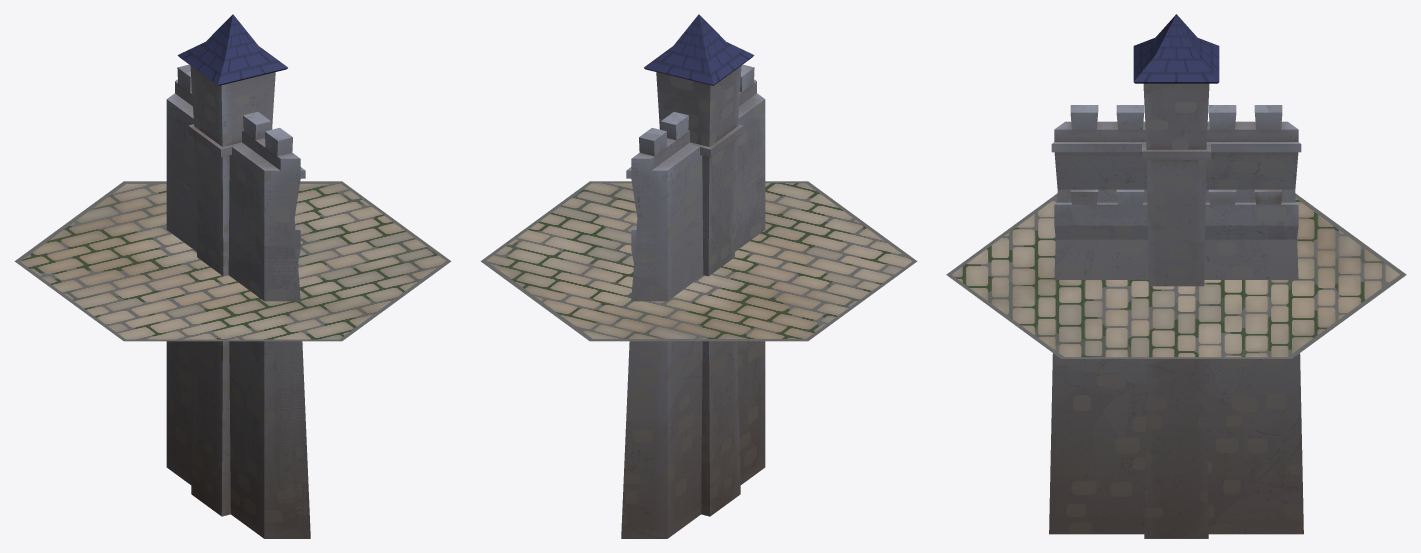
The model's file is Castle_human.gltf.
The picture shows the model from 3 angles, left to right: view 1: azimuth 30°, elevation 25°; view 2: azimuth 150°, elevation 25°; view 3: azimuth 270°, elevation 25°; orthographic projection. The views are drawn at different scales.
Visible parts, largest first — view 1: Keep_human_floor_01, Keep_human_wall_01, Keep_human_tower_01, Castle_human_wall_01; view 2: Keep_human_floor_01, Keep_human_wall_01, Keep_human_tower_01, Castle_human_wall_01; view 3: Keep_human_wall_01, Keep_human_floor_01, Keep_human_tower_01, Castle_human_wall_01.
Boxes of the visible parts, x1,y1,x2,y2 form: Keep_human_floor_01: (14, 181, 451, 341); Keep_human_wall_01: (166, 64, 310, 538); Keep_human_tower_01: (177, 14, 287, 516); Castle_human_wall_01: (166, 171, 310, 538); Keep_human_floor_01: (480, 181, 917, 341); Keep_human_wall_01: (621, 64, 765, 538); Keep_human_tower_01: (644, 14, 754, 516); Castle_human_wall_01: (631, 171, 765, 301); Keep_human_wall_01: (1049, 105, 1303, 534); Keep_human_floor_01: (946, 194, 1406, 358); Keep_human_tower_01: (1133, 14, 1219, 538); Castle_human_wall_01: (1054, 189, 1298, 239).
Size of the model in its own units: 8.66 by 12.25 by 10.
Materials: 5 (5 with a texture image).
